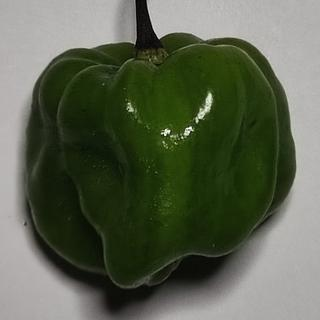Grade-B: (14, 27, 302, 292)
